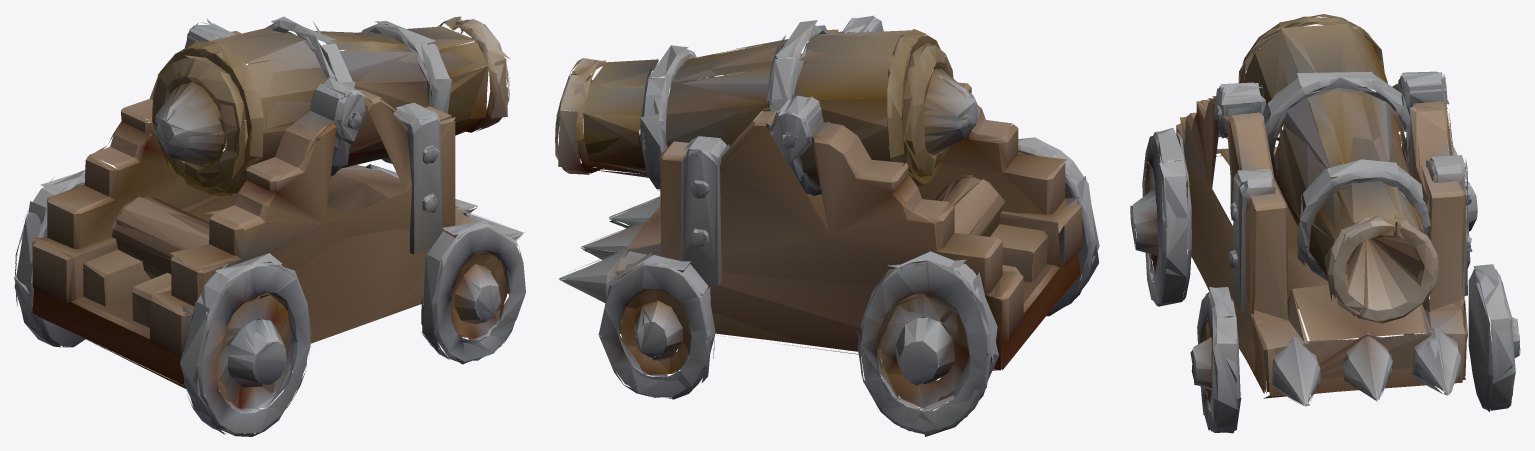
File: cannon.glb
The picture shows the model from 3 angles, left to right: view 1: azimuth 30°, elevation 25°; view 2: azimuth 150°, elevation 25°; view 3: azimuth 270°, elevation 25°; orthographic projection. The views are drawn at different scales.
Visible parts, largest first — view 1: cannon; view 2: cannon; view 3: cannon.
Part boxes in pixels (box(x1,y1,x2,y2)): cannon: box(14, 16, 525, 436); cannon: box(555, 15, 1099, 436); cannon: box(1130, 14, 1520, 433).
Bounding box in the file's own units: 1.58 × 1.1 × 1.23.
